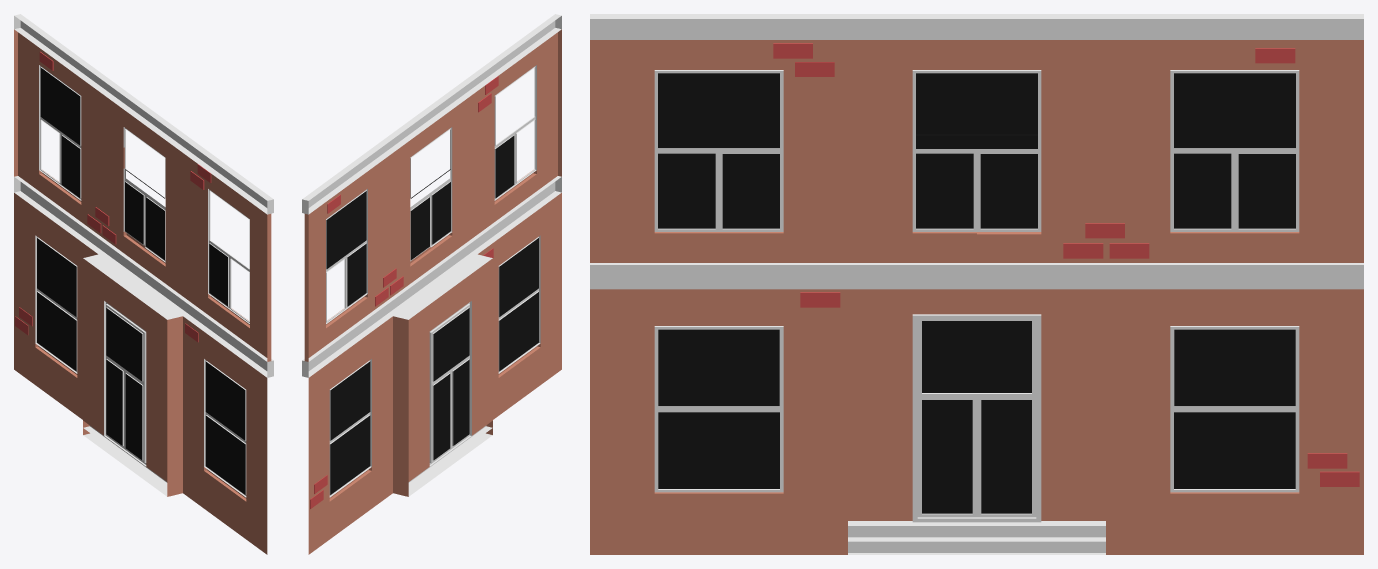
File: House2.fbx
3 renders of one model, left to right at view 1: azimuth 30°, elevation 25°; view 2: azimuth 150°, elevation 25°; view 3: azimuth 270°, elevation 25°, orthographic. The views are drawn at different scales.
Visible parts, largest first — view 1: Plane; view 2: Plane; view 3: Plane.
Boxes of the visible parts, box(x1,y1,x2,y2) form: Plane: box(14, 14, 273, 554); Plane: box(302, 14, 561, 554); Plane: box(590, 14, 1363, 554).
Size of the model in its own units: 78.78 by 1080 by 1400.
